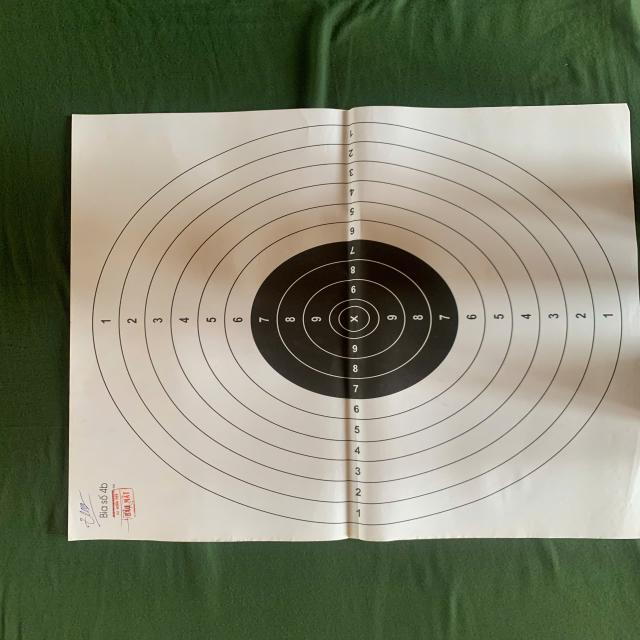target: (68, 104, 636, 543)
